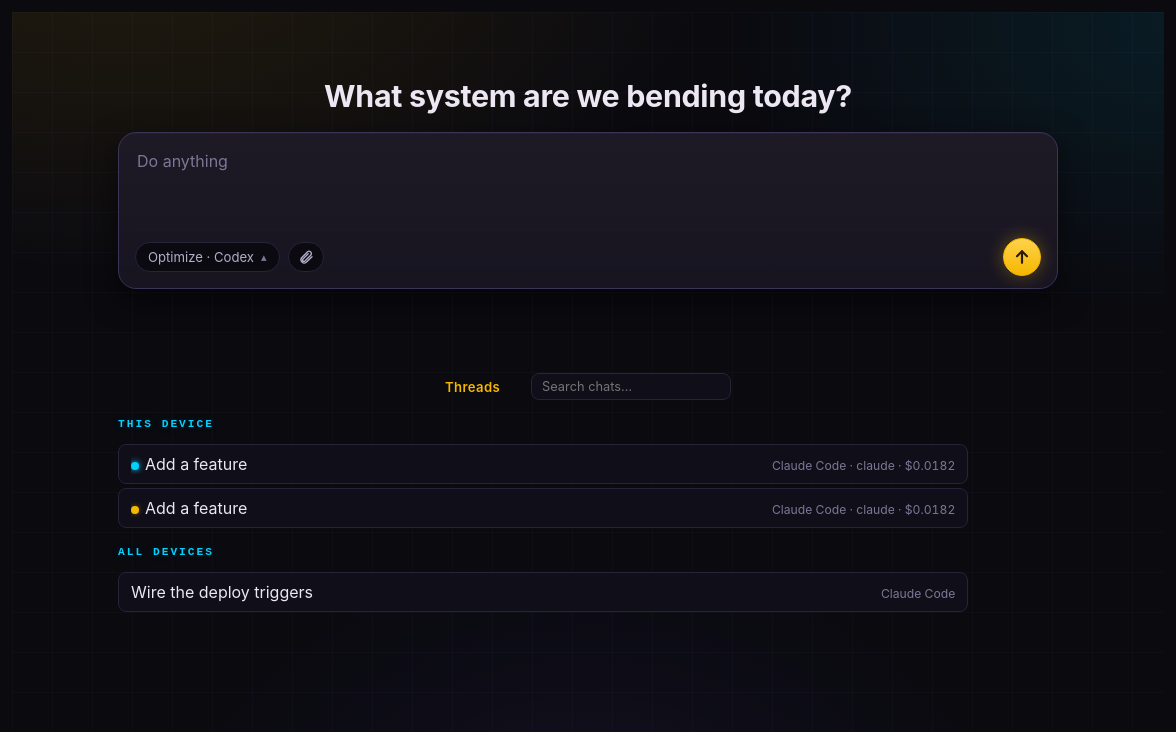
Test: RunScreen › lists synced history and reopens a past session read-only
The image size is (1176, 732).
What coordinates should you click on to do the following:
click the text "Wire the deploy triggers"
I would click on:
 (222, 592)
Its box is [131, 582, 313, 602].
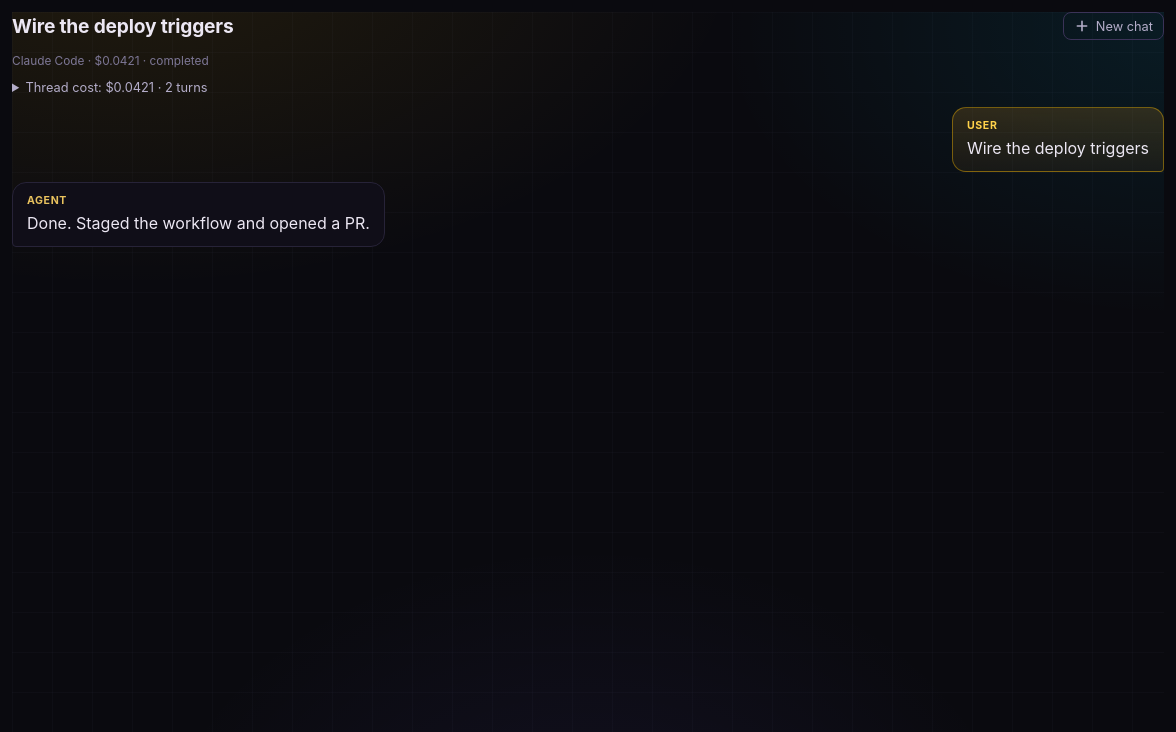
Expected: the text "Done. Staged the workflow and opened a PR." is shown, [27, 211, 370, 235]
Expected: the heading "Thread cost: $0.0421 · 2 turns" is shown, [26, 80, 207, 95]
